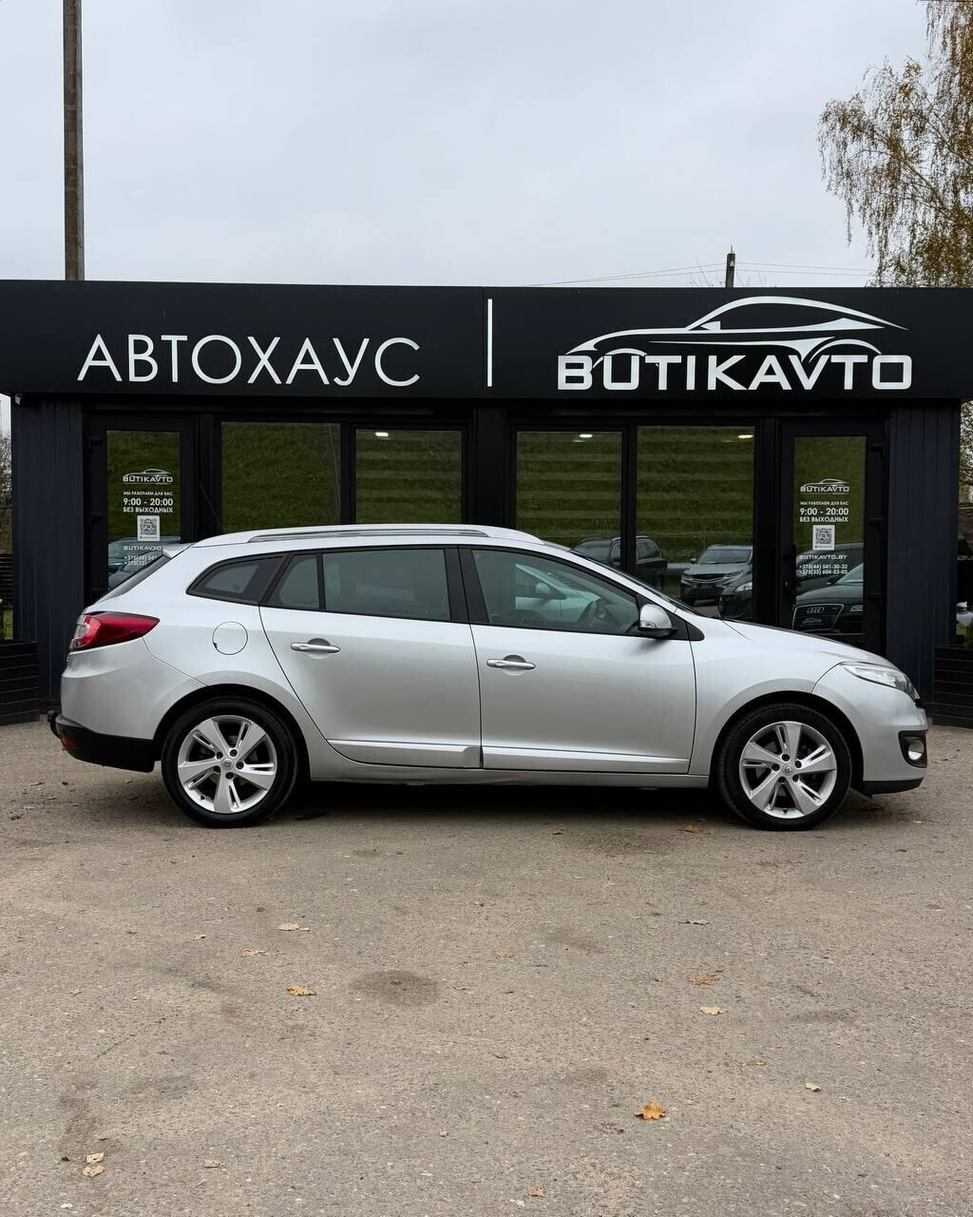Megane_2012-2014: (54, 517, 926, 834)
